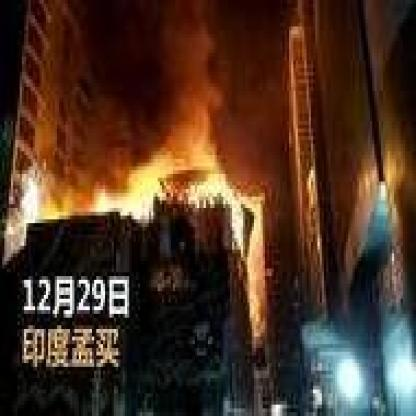fire: (27, 132, 258, 251)
other: (294, 283, 407, 403)
